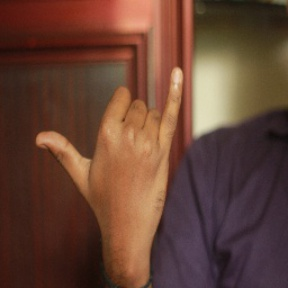J: (34, 63, 187, 227)
